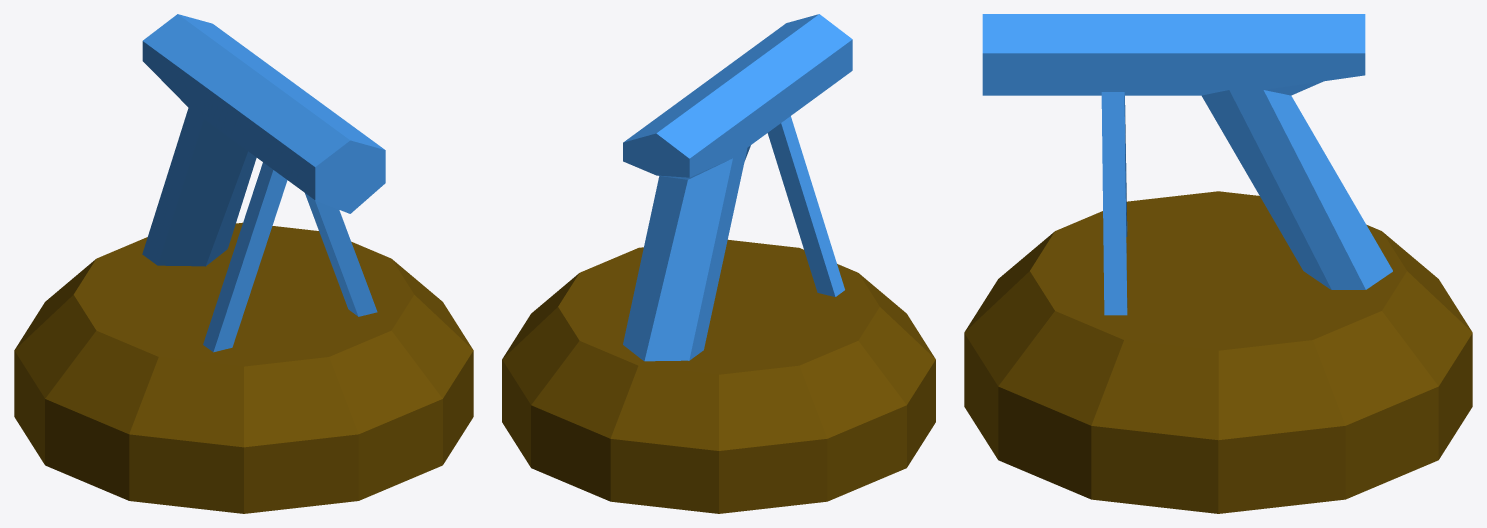
The model's file is Gun 2.fbx.
The picture shows the model from 3 angles, left to right: view 1: azimuth 30°, elevation 25°; view 2: azimuth 150°, elevation 25°; view 3: azimuth 270°, elevation 25°; orthographic projection. The views are drawn at different scales.
Visible parts, largest first — view 1: Cylinder, Cube.001, Cube.002, Cube.003; view 2: Cylinder, Cube.001, Cube.002; view 3: Cylinder, Cube.001, Cube.003.
Boxes of the visible parts, x1=… form: Cylinder: x1=14, y1=222, x2=473, y2=513; Cube.001: x1=142, y1=14, x2=385, y2=266; Cube.002: x1=203, y1=162, x2=287, y2=352; Cube.003: x1=305, y1=193, x2=377, y2=316; Cylinder: x1=502, y1=239, x2=935, y2=513; Cube.001: x1=623, y1=14, x2=852, y2=361; Cube.002: x1=767, y1=116, x2=844, y2=296; Cylinder: x1=964, y1=191, x2=1472, y2=513; Cube.001: x1=982, y1=14, x2=1392, y2=289; Cube.003: x1=1101, y1=92, x2=1127, y2=315.
Size of the model in its own units: 140 by 119 by 140.
